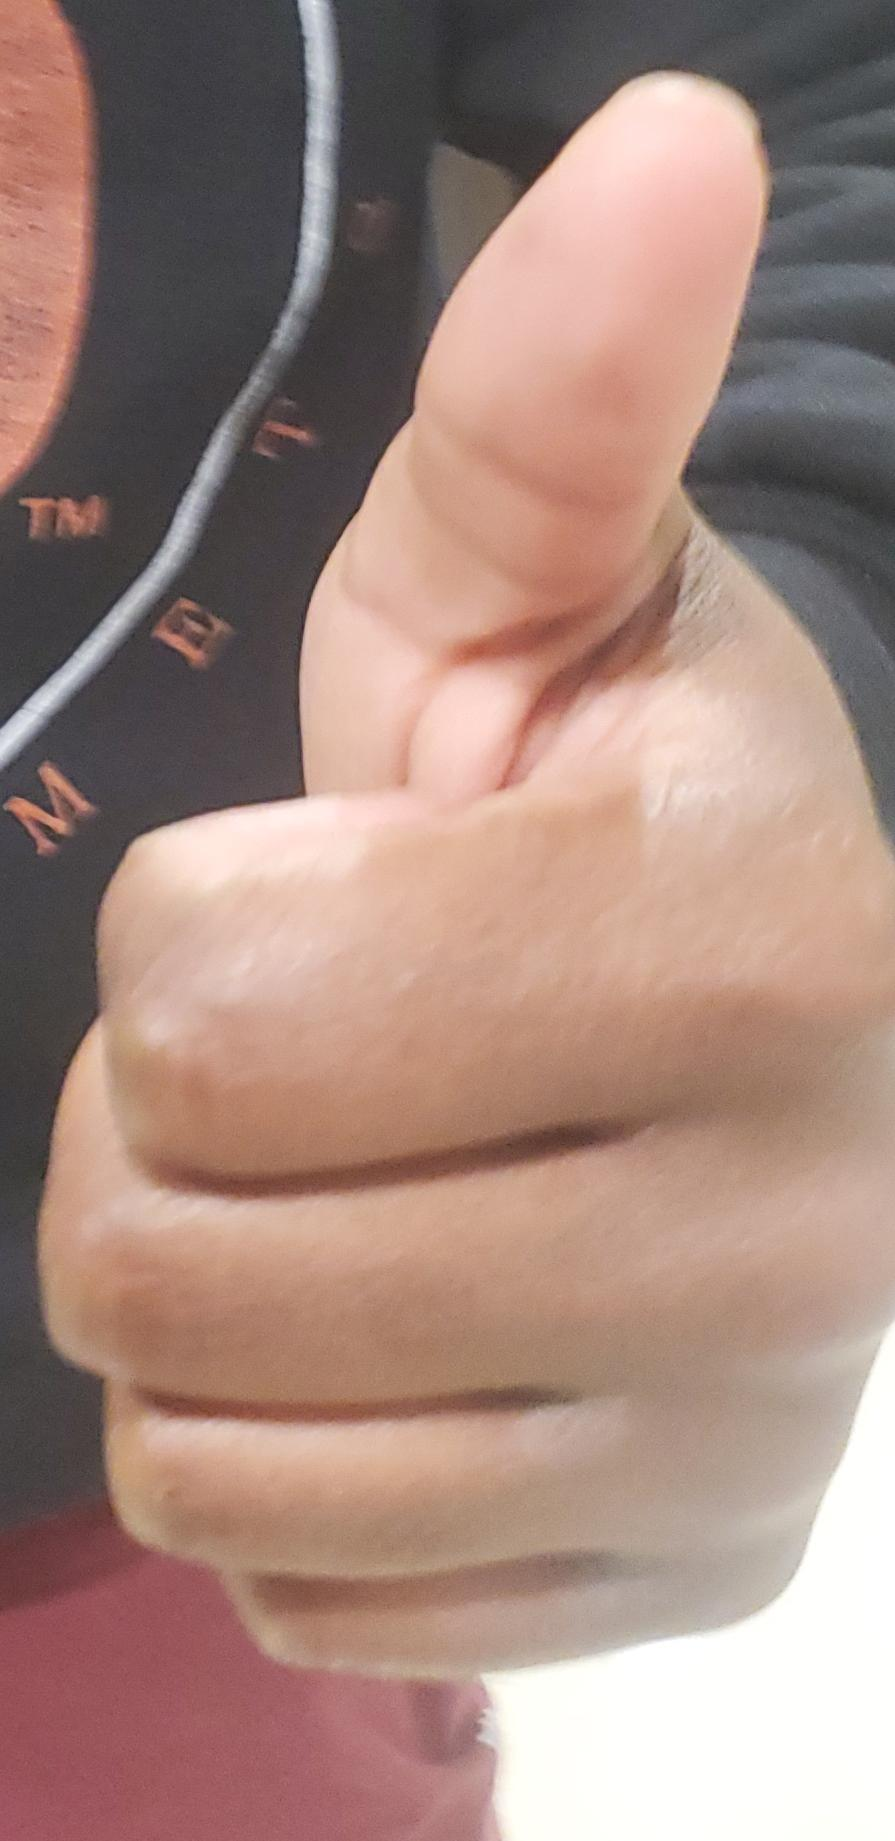up: (0, 1, 895, 1841)
